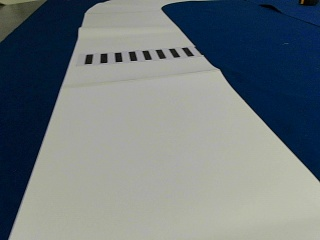crosswalk: (81, 47, 193, 63)
